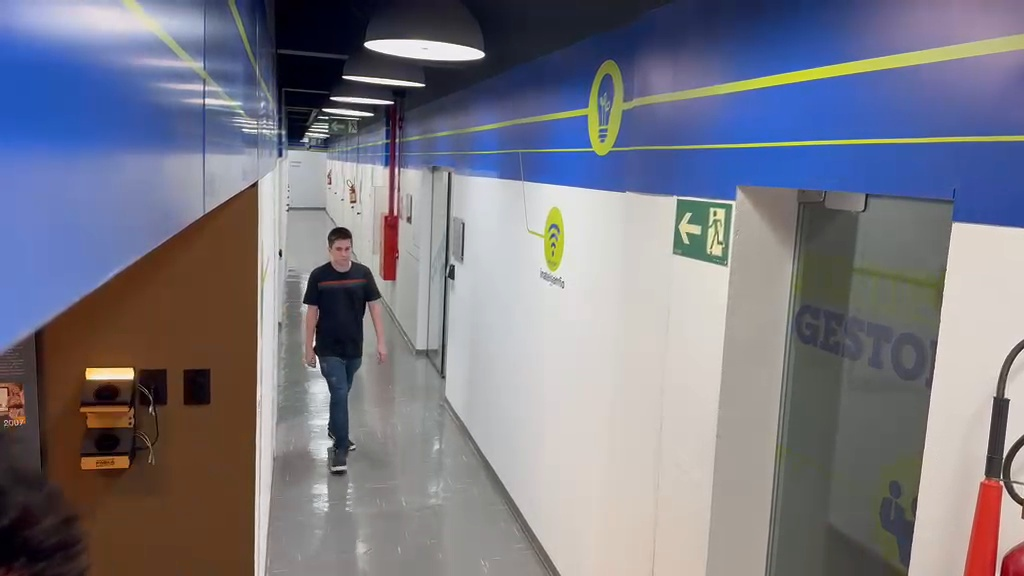person: (302, 226, 387, 468), (0, 433, 90, 572)
